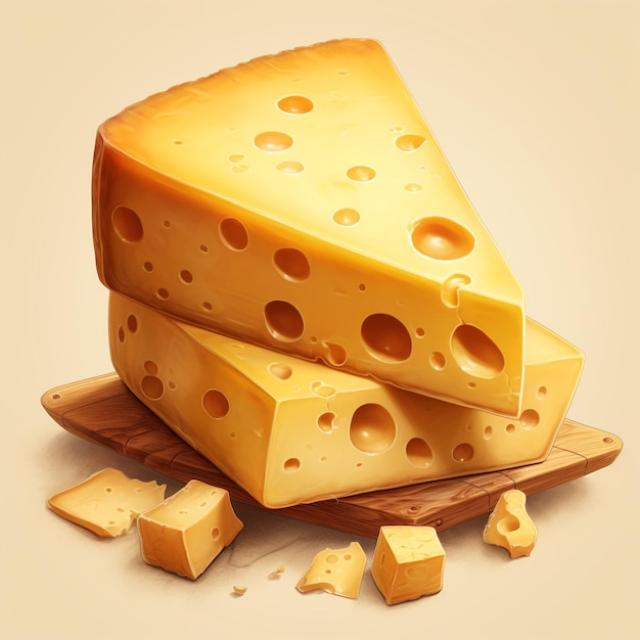Cheese: (88, 16, 532, 418), (87, 273, 583, 508)
